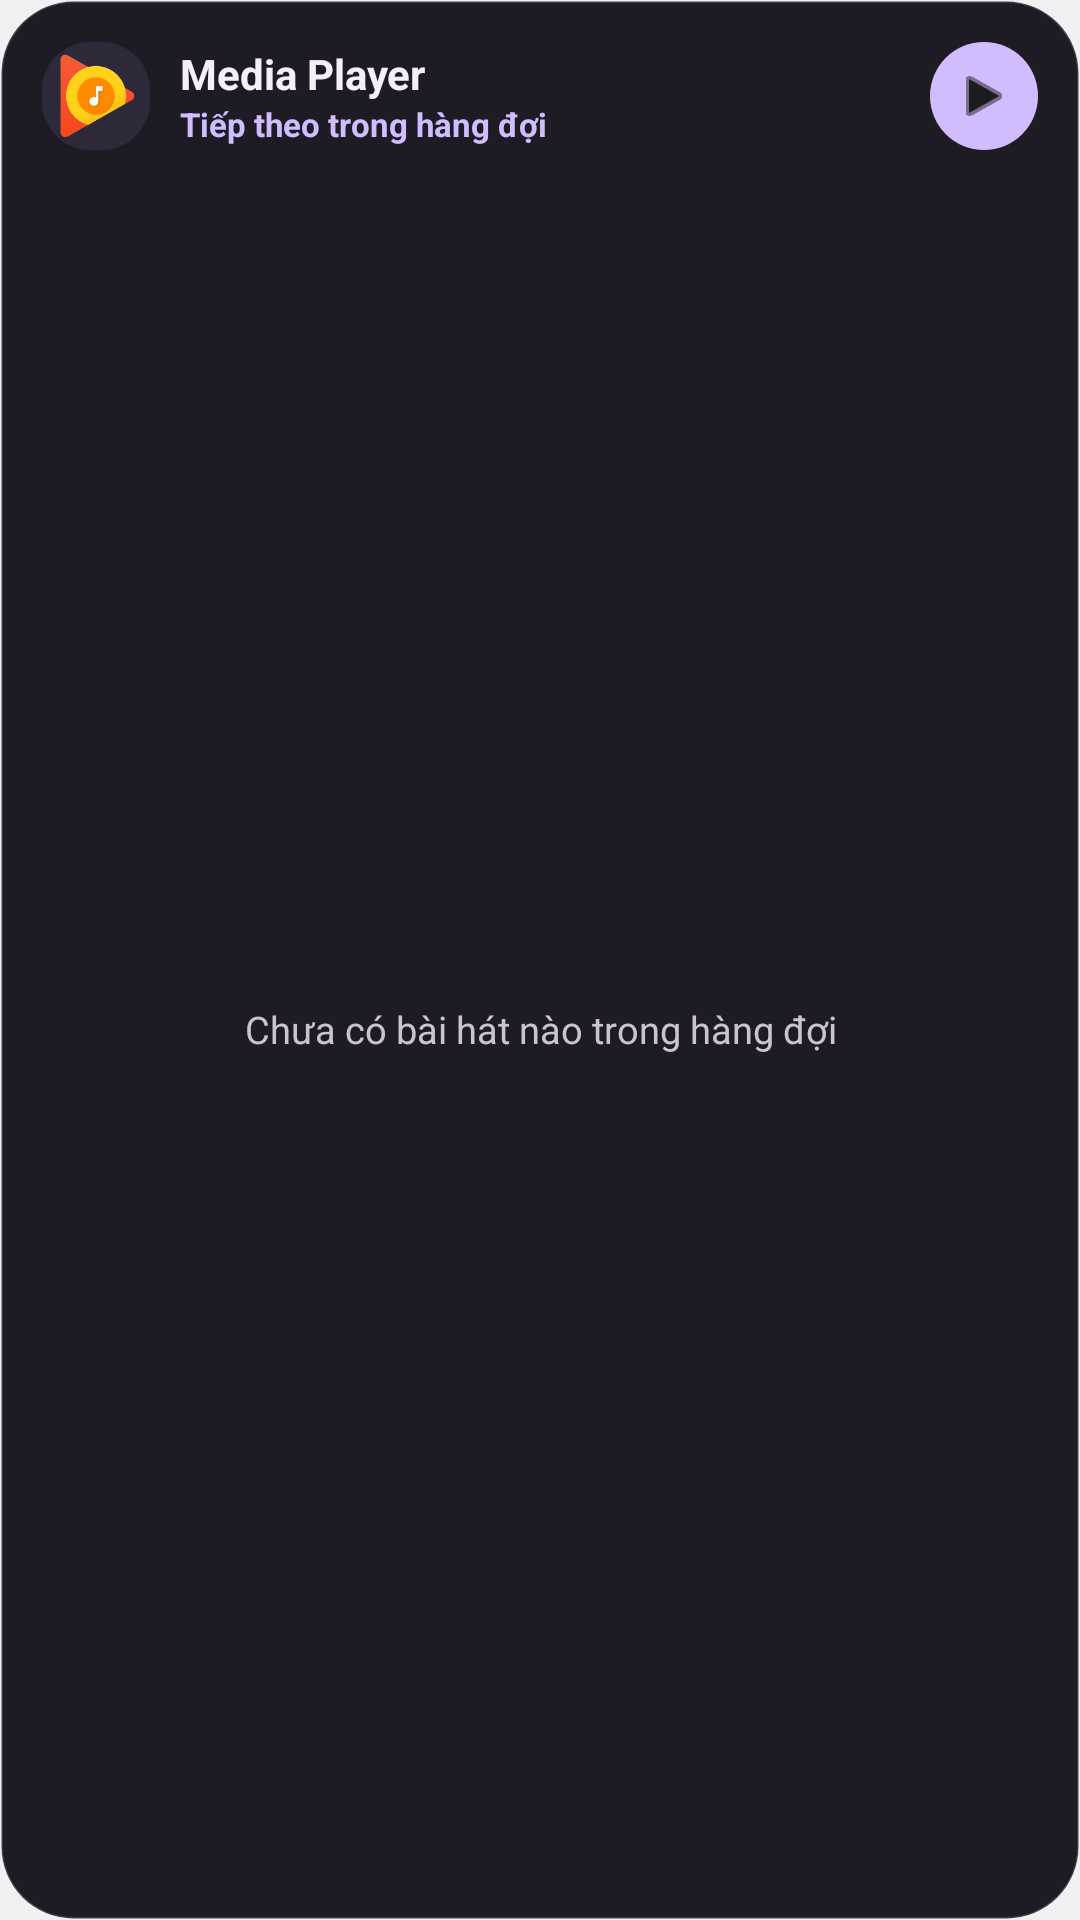

Point at icon controls on the screen. Image size 1080*1920, points as (x,y).
Play or Pause: (984,96)
